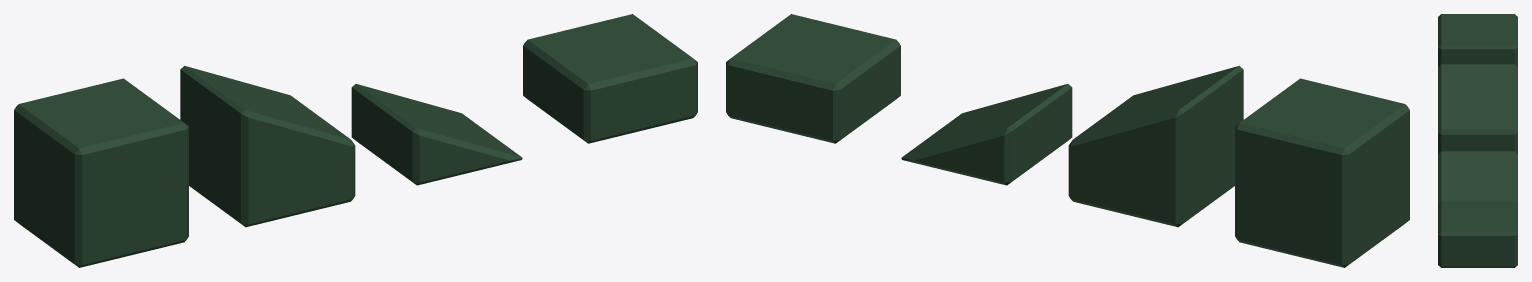
The model's file is world-blocks-v1.glb.
3 views of the same model, side by side, from view 1: azimuth 30°, elevation 25°; view 2: azimuth 150°, elevation 25°; view 3: azimuth 270°, elevation 25° (orthographic). The views are drawn at different scales.
Parts seen in each view (by area): view 1: Block, RampTop, BlockShort, RampBottom; view 2: Block, RampTop, BlockShort, RampBottom; view 3: RampTop, BlockShort, Block, RampBottom.
Boxes of the visible parts, x1,y1,x2,y2 form: Block: (14,78,188,267); RampTop: (180,65,355,227); BlockShort: (523,14,697,143); RampBottom: (351,84,522,185); Block: (1235,78,1409,267); RampTop: (1068,65,1243,227); BlockShort: (726,14,900,143); RampBottom: (901,84,1072,185); RampTop: (1438,64,1517,154); BlockShort: (1438,200,1517,267); Block: (1438,14,1517,67); RampBottom: (1438,151,1517,203).
Size of what is drawn, in the model's own units: 10.91 by 2 by 2.
